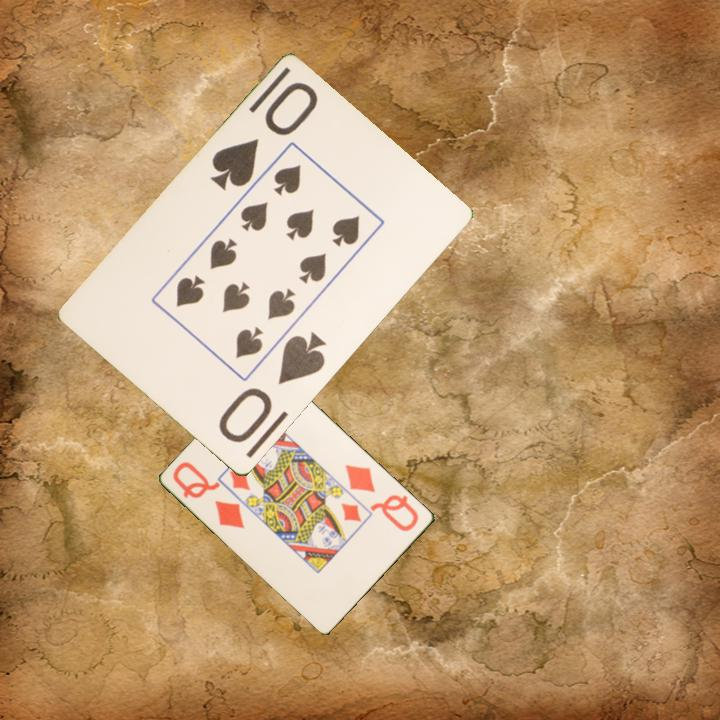10s: (215, 329, 329, 447), (206, 79, 322, 194)
Qd: (169, 458, 248, 532), (342, 461, 422, 534)
